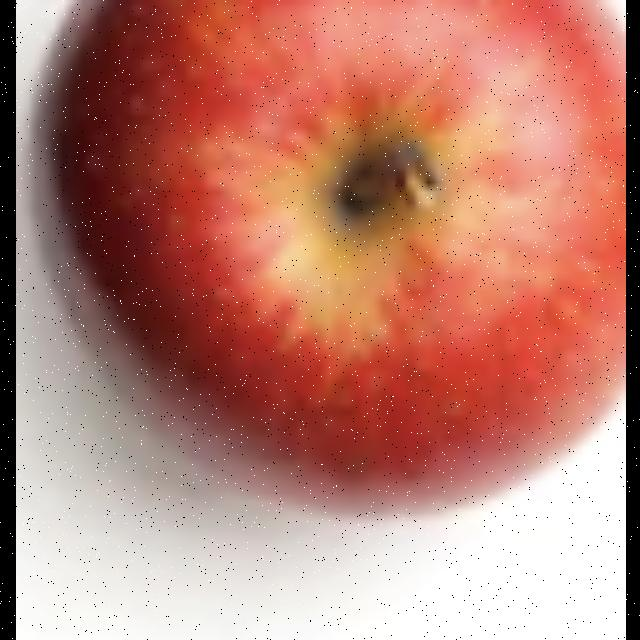Apel Segar: (20, 0, 626, 530)
